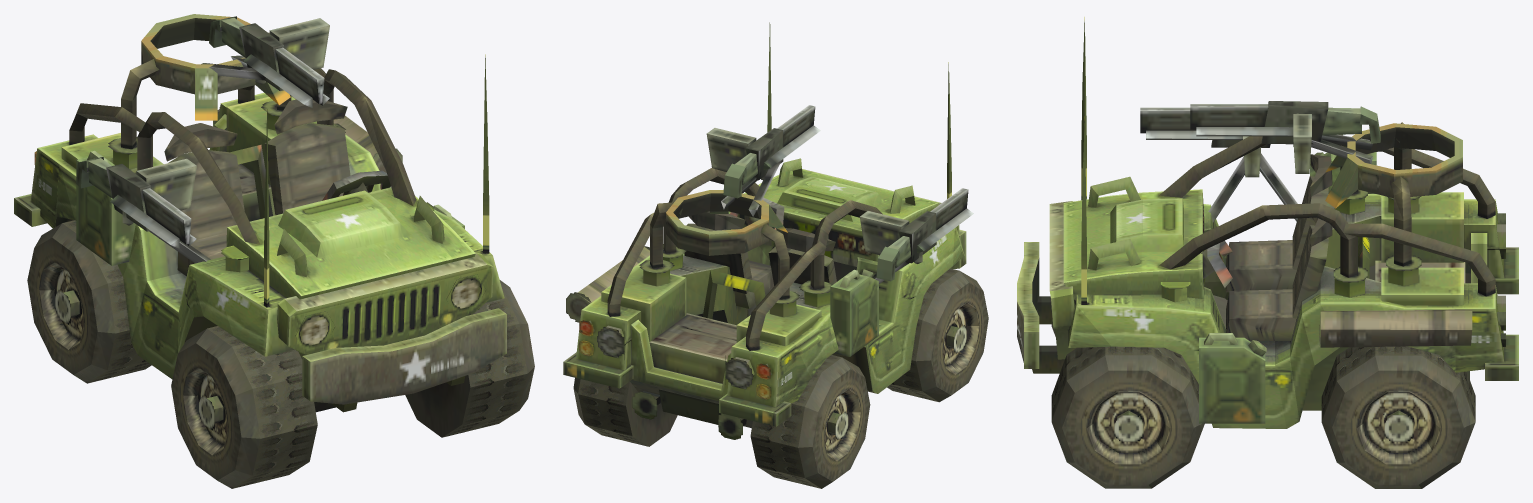
Rendered from VWFLTRAH.obj.
3 renders of one model, left to right at view 1: azimuth 30°, elevation 25°; view 2: azimuth 150°, elevation 25°; view 3: azimuth 270°, elevation 25°, orthographic. The views are drawn at different scales.
Parts seen in each view (by area): view 1: Node 0, Node 23, Node 26, Node 24, Node 12, Node 16, Node 4, Node 15; view 2: Node 0, Node 26, Node 23, Node 12, Node 16, Node 25, Node 4, Node 15; view 3: Node 0, Node 25, Node 24, Node 16, Node 2, Node 12, Node 15.
Boxes of the visible parts, <box> form: Node 0: <box>14,14,506,412</box>; Node 23: <box>171,326,317,488</box>; Node 26: <box>27,220,151,383</box>; Node 24: <box>405,280,534,437</box>; Node 12: <box>76,157,196,248</box>; Node 16: <box>209,16,329,107</box>; Node 4: <box>76,150,135,265</box>; Node 15: <box>201,55,267,80</box>; Node 0: <box>563,22,966,439</box>; Node 26: <box>750,355,870,488</box>; Node 23: <box>887,268,988,402</box>; Node 12: <box>860,188,973,281</box>; Node 16: <box>706,105,820,198</box>; Node 25: <box>573,377,677,446</box>; Node 4: <box>830,269,878,356</box>; Node 15: <box>721,160,781,216</box>; Node 0: <box>1017,17,1518,428</box>; Node 25: <box>1321,346,1475,488</box>; Node 24: <box>1051,346,1204,488</box>; Node 16: <box>1190,101,1380,173</box>; Node 2: <box>1199,333,1266,423</box>; Node 12: <box>1140,107,1270,177</box>; Node 15: <box>1311,134,1372,163</box>.
Size of the model in its own units: 3.02 by 3.44 by 4.3.
23 materials, 23 textured.
